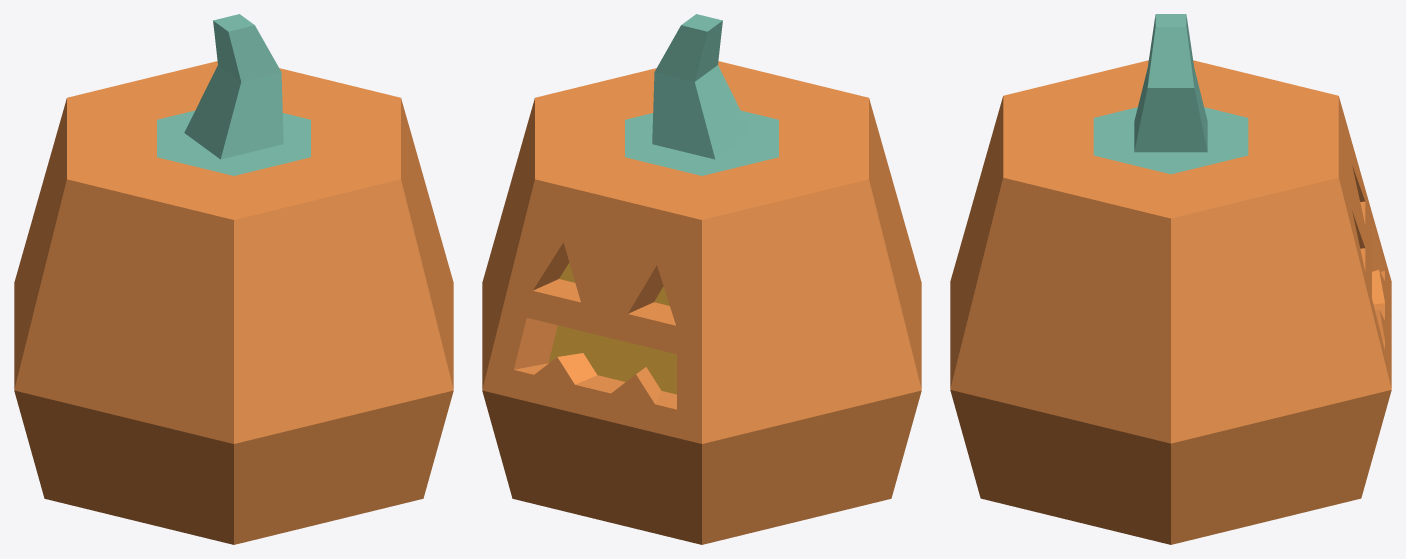
Rendered from pumpkinCarvedTall.dae.
The picture shows the model from 3 angles, left to right: view 1: azimuth 30°, elevation 25°; view 2: azimuth 150°, elevation 25°; view 3: azimuth 270°, elevation 25°; orthographic projection.
Visible parts, largest first — view 1: pumpkinCarvedTall; view 2: pumpkinCarvedTall; view 3: pumpkinCarvedTall.
Part boxes in pixels (x1,y1,x2,y2): pumpkinCarvedTall: (14,14,453,544); pumpkinCarvedTall: (482,14,921,544); pumpkinCarvedTall: (950,14,1391,544).
Bounding box in the file's own units: 0.2784 × 0.26 × 0.2411.
